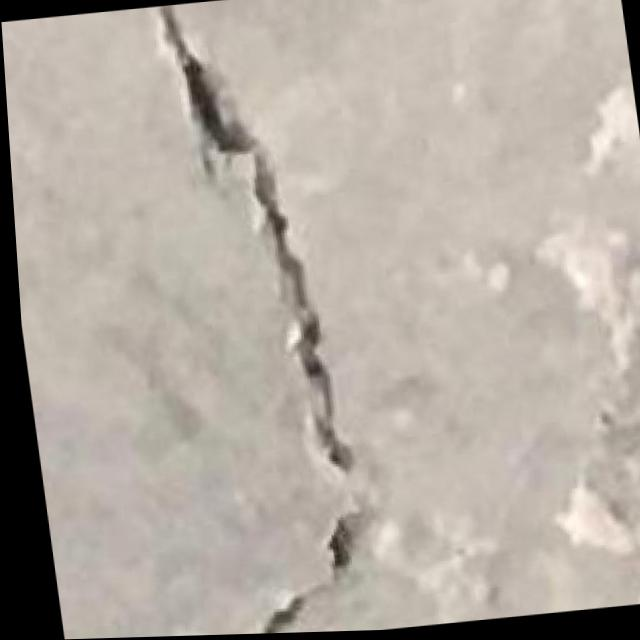Crack: (136, 0, 387, 637)
